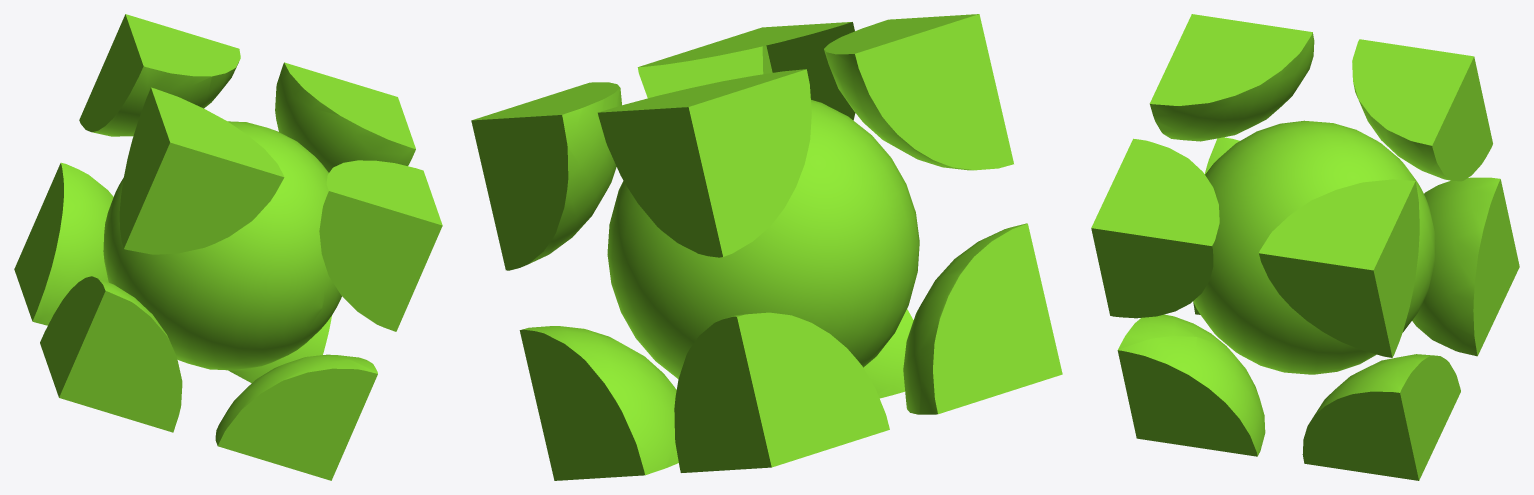
File: uploads_files_2625942_FCC.fbx
The picture shows the model from 3 angles, left to right: view 1: azimuth 30°, elevation 25°; view 2: azimuth 150°, elevation 25°; view 3: azimuth 270°, elevation 25°; orthographic projection. The views are drawn at different scales.
Parts seen in each view (by area): view 1: Sphere.001; view 2: Sphere.001; view 3: Sphere.001.
Boxes of the visible parts, <box> form: Sphere.001: <box>14,14,442,480</box>; Sphere.001: <box>471,14,1062,480</box>; Sphere.001: <box>1091,14,1519,480</box>.
Bounding box in the file's own units: 315 × 264 × 283.
